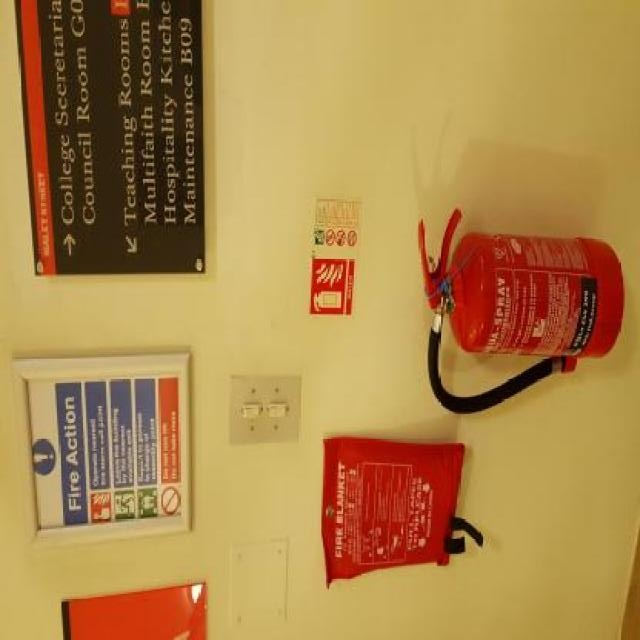fire extinguisher: (418, 207, 625, 416)
